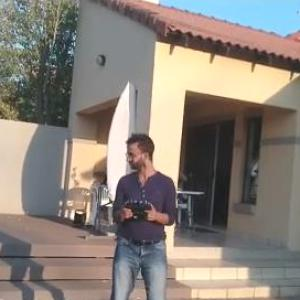follow: (102, 127, 181, 299)
